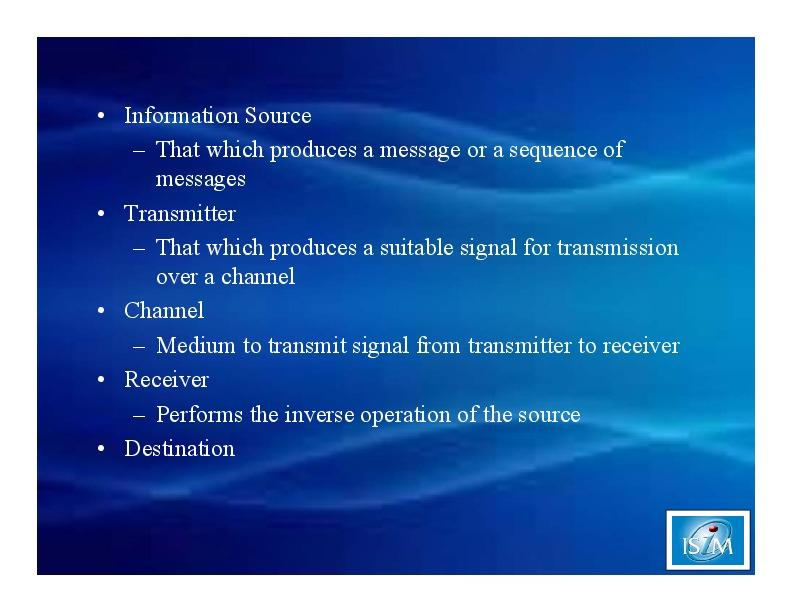paragraph: (125, 231, 688, 292), (124, 131, 641, 189), (124, 325, 696, 368), (123, 395, 611, 434)
subtitle: (117, 98, 318, 134), (118, 436, 245, 467), (118, 200, 246, 227), (113, 299, 212, 323), (119, 371, 222, 393)
